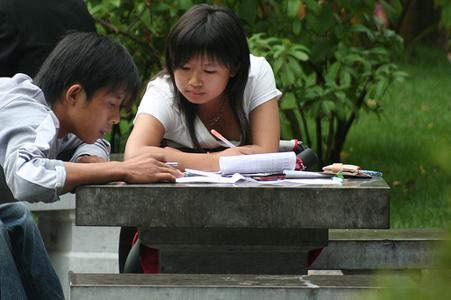person: (125, 5, 283, 175)
